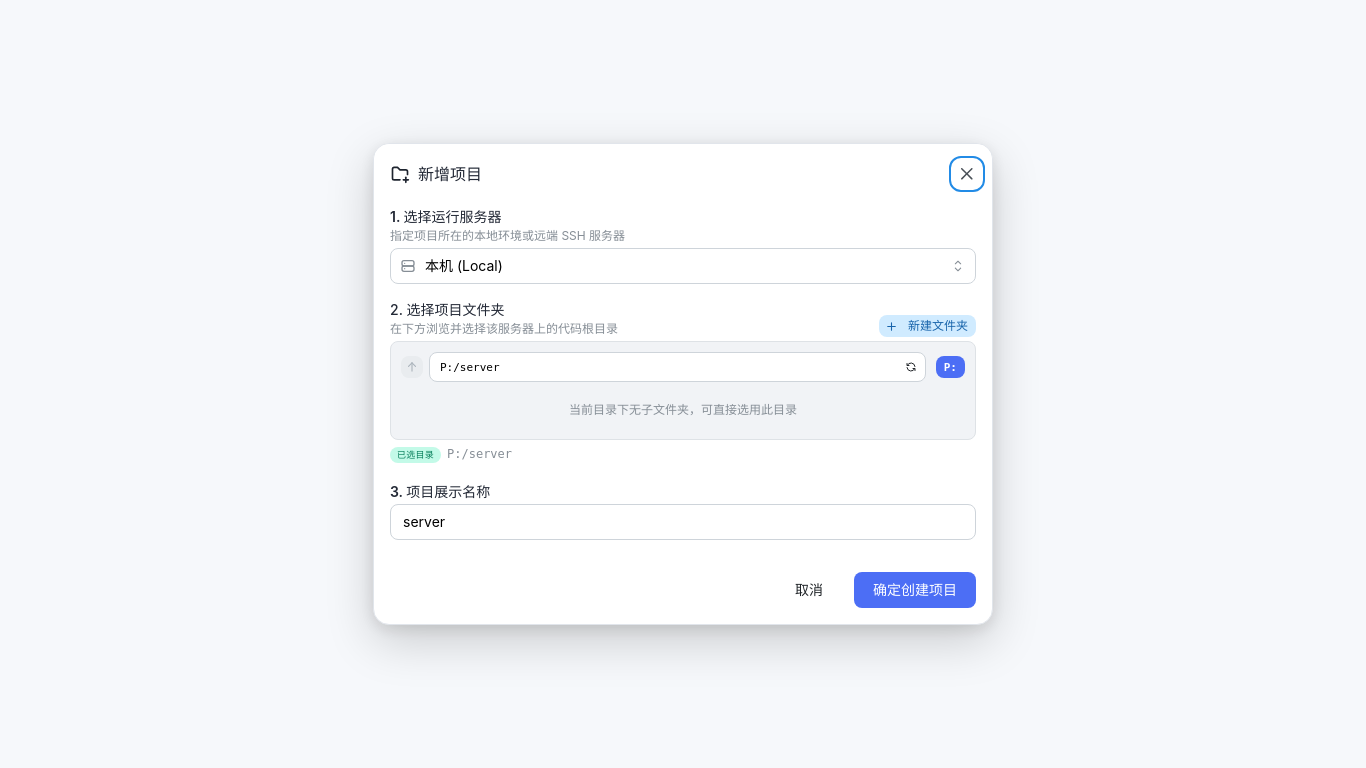
Scenario: clears host drive buttons when switching to a remote directory
Expected: the button "P:" is shown, [936, 356, 965, 378]
Select "WSL (tester@127.0.0.1)" in the dropdown labelled "1. 选择运行服务器" at x=683, y=266, box [390, 248, 976, 284]
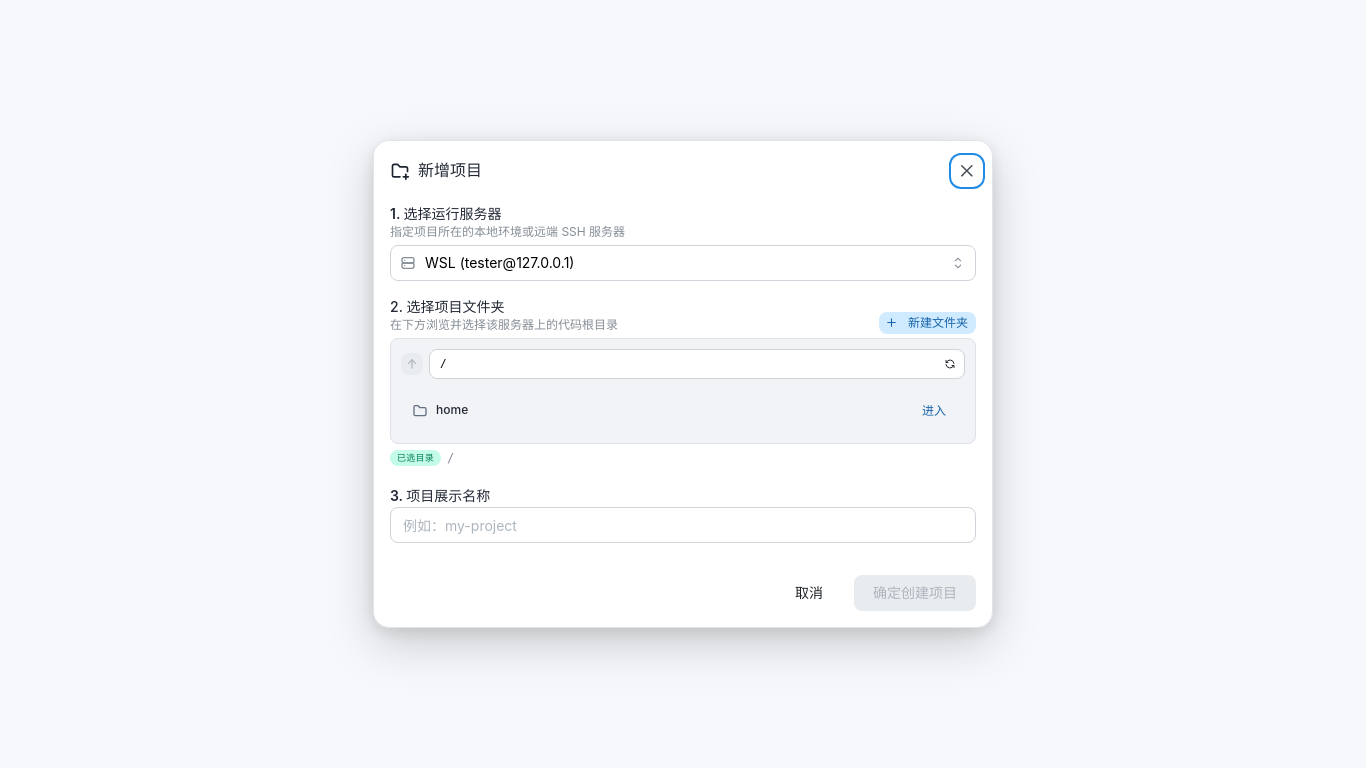
Expected: the text "home" is shown, [436, 402, 468, 419]
Expected: the button "P:" is gone
Expected: the field with placeholder "输入路径按回车跳转" holds "/", [429, 349, 965, 379]
